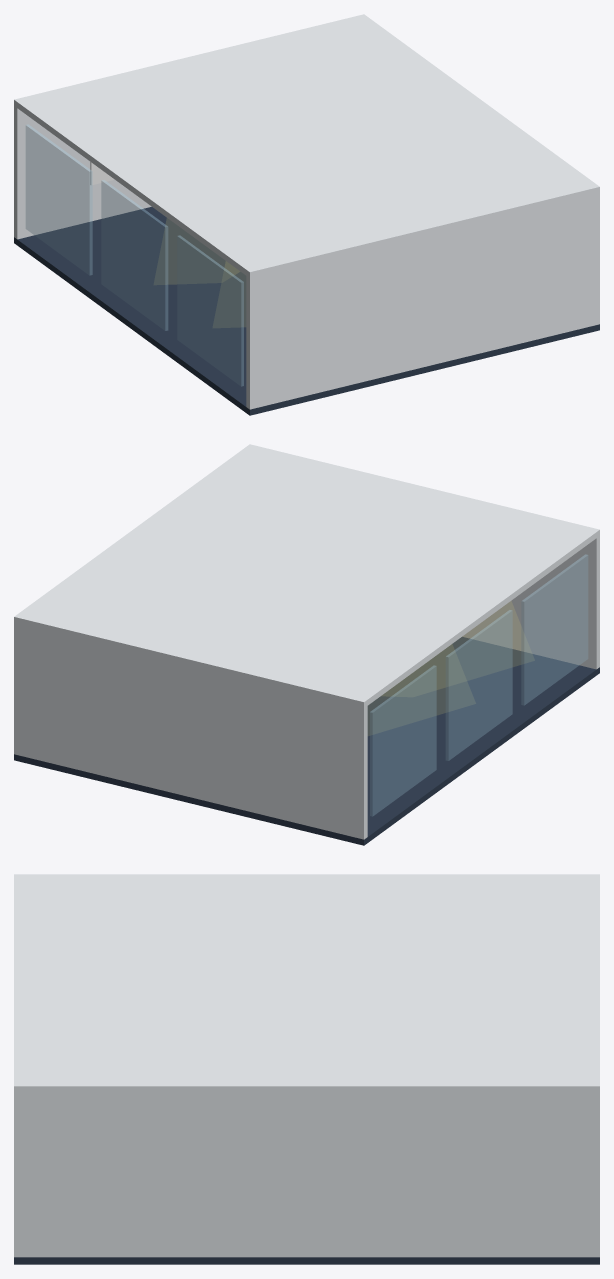
The model's file is classroom.glb.
3 renders of one model, top to bottom at view 1: azimuth 30°, elevation 25°; view 2: azimuth 150°, elevation 25°; view 3: azimuth 270°, elevation 25°, orthographic. The views are drawn at different scales.
Bounding box in the file's own units: 12 × 5.23 × 14.
